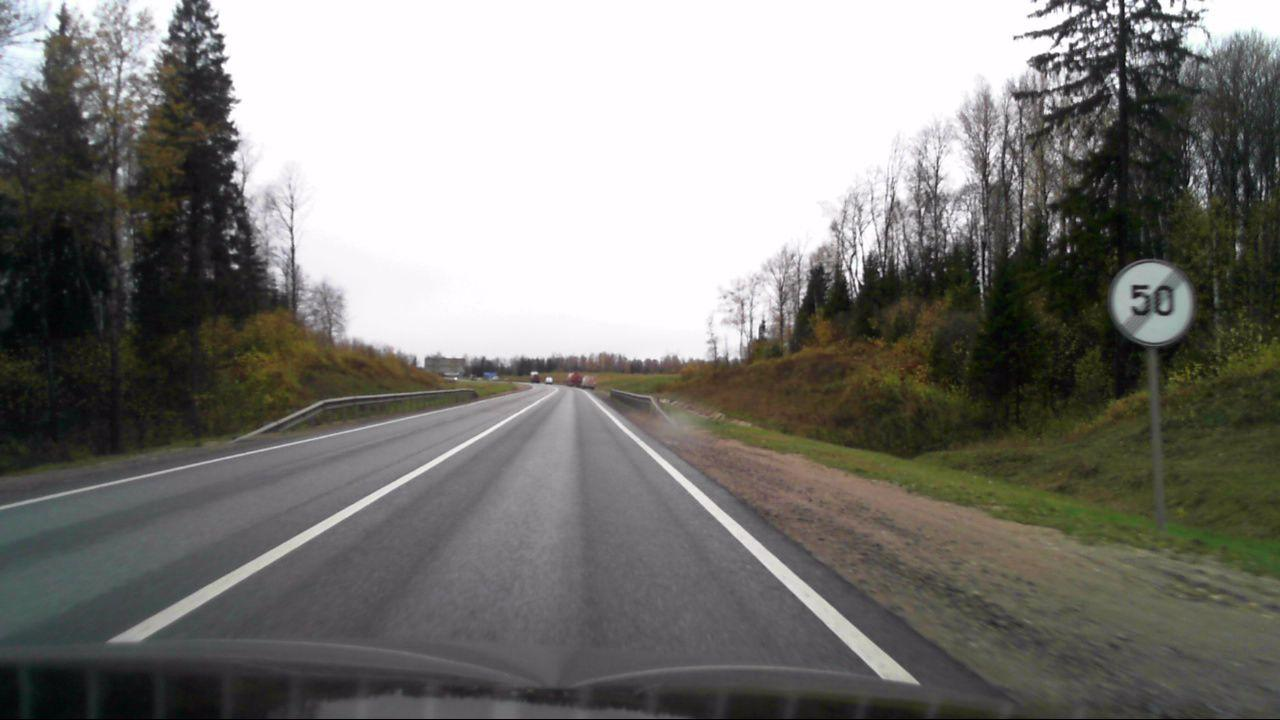3_25: (1110, 261, 1196, 346)
